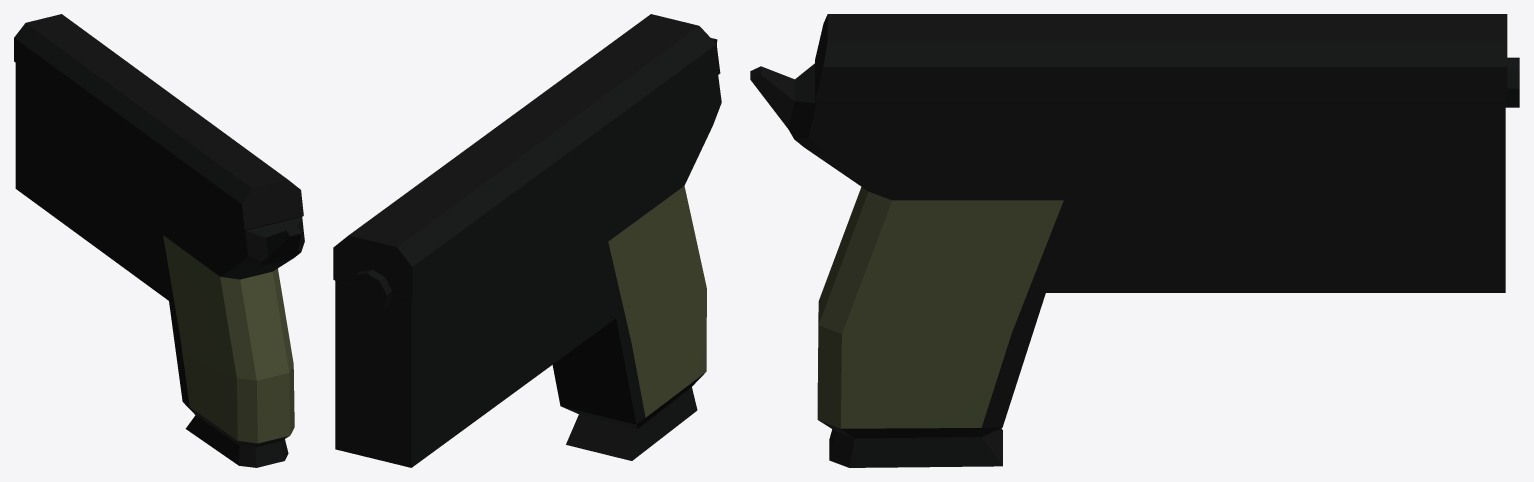
File: pistol.obj
The picture shows the model from 3 angles, left to right: view 1: azimuth 30°, elevation 25°; view 2: azimuth 150°, elevation 25°; view 3: azimuth 270°, elevation 25°; orthographic projection. The views are drawn at different scales.
Parts seen in each view (by area): view 1: Cylinder; view 2: Cylinder; view 3: Cylinder.
Part boxes in pixels (x1,y1,x2,y2): Cylinder: [14, 14, 304, 467]; Cylinder: [333, 14, 721, 467]; Cylinder: [750, 14, 1519, 467].
Bounding box in the file's own units: 0.024 × 0.1091 × 0.1802.
